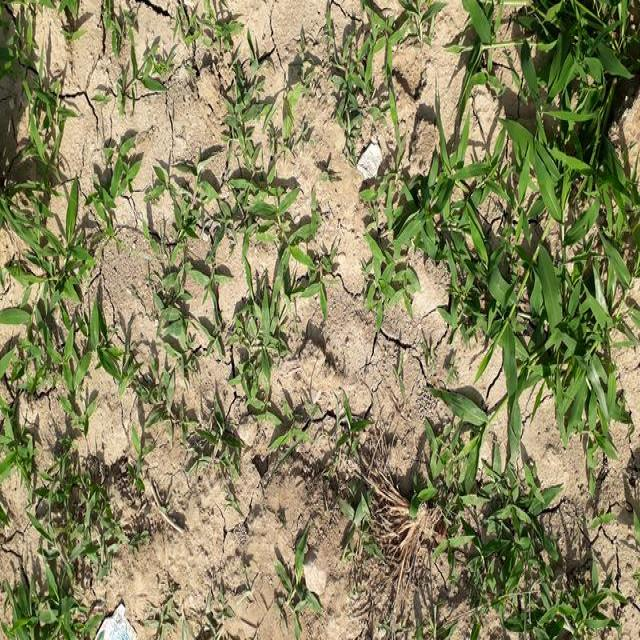weed: (436, 18, 635, 431), (150, 180, 342, 421), (12, 208, 130, 474), (0, 15, 144, 222), (450, 472, 619, 640), (9, 457, 111, 640), (172, 21, 292, 166), (298, 35, 438, 146), (363, 202, 419, 344), (263, 528, 331, 635)
